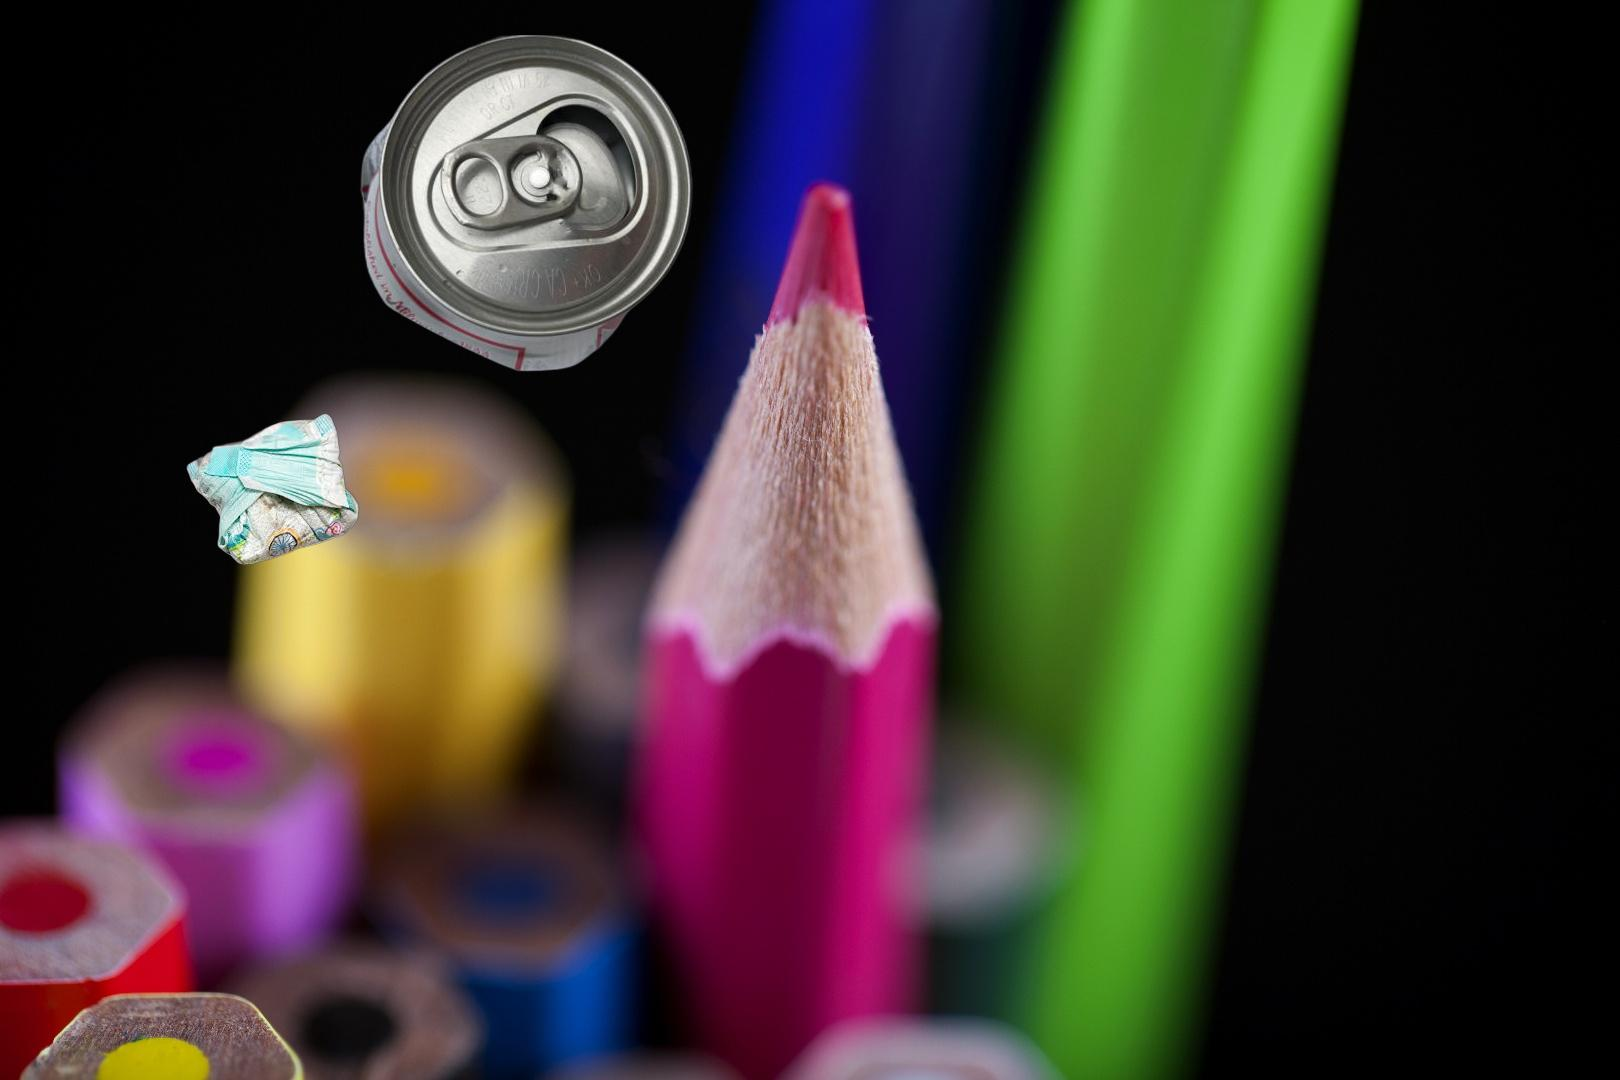metal-cans: (356, 35, 697, 375)
trash: (184, 411, 362, 568)
